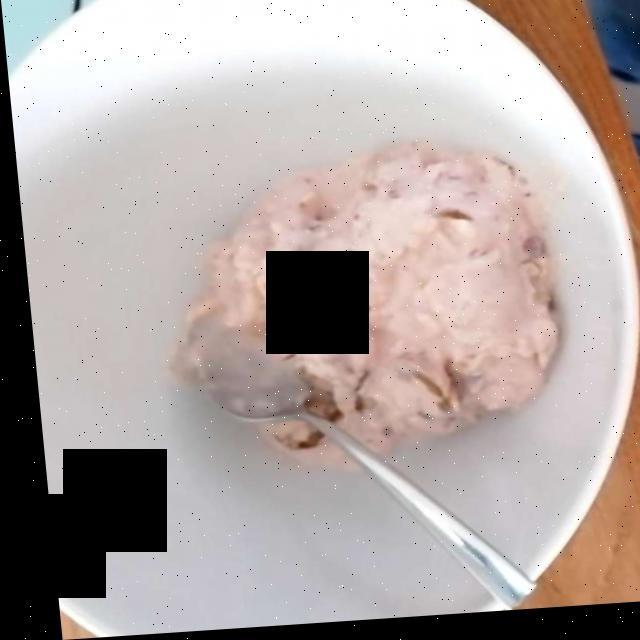yogurt: (183, 159, 553, 472)
